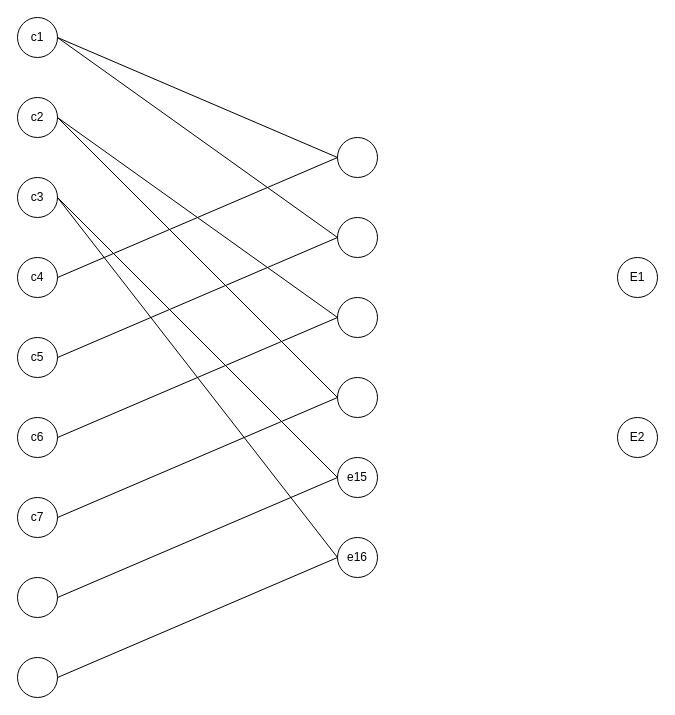
The diagram is 675 pixels wide and 715 high, and some of its shapes have lost their labels. The centre of each missing label's shape, as x and y in pixels:
c8: the point at 37,597
c9: the point at 37,677
e11: the point at 357,157
e12: the point at 357,237
e13: the point at 357,317
e14: the point at 357,397
